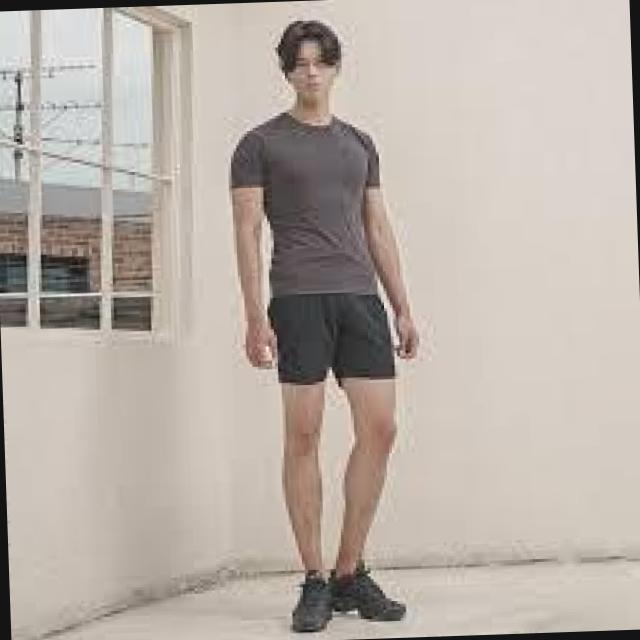Tshirt: (226, 109, 389, 296)
short: (262, 280, 399, 387)
